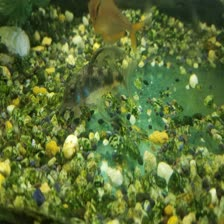Kiros: (58, 48, 150, 108)
Transparente: (84, 0, 166, 40)
